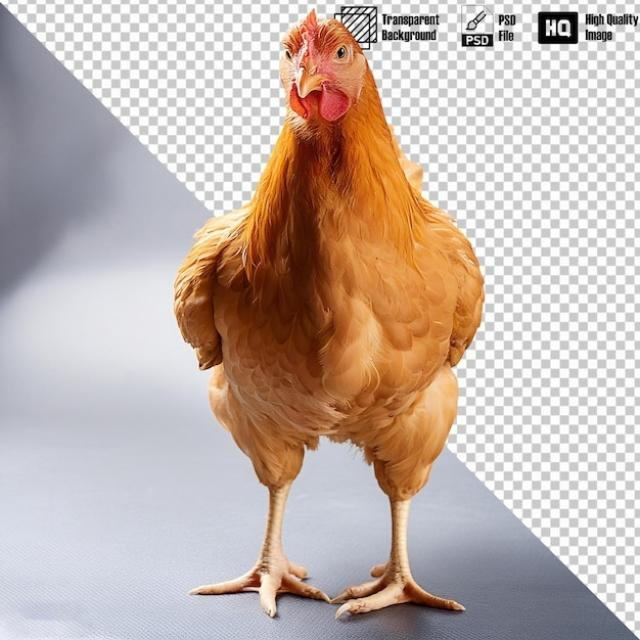Chicken: (174, 9, 487, 623)
